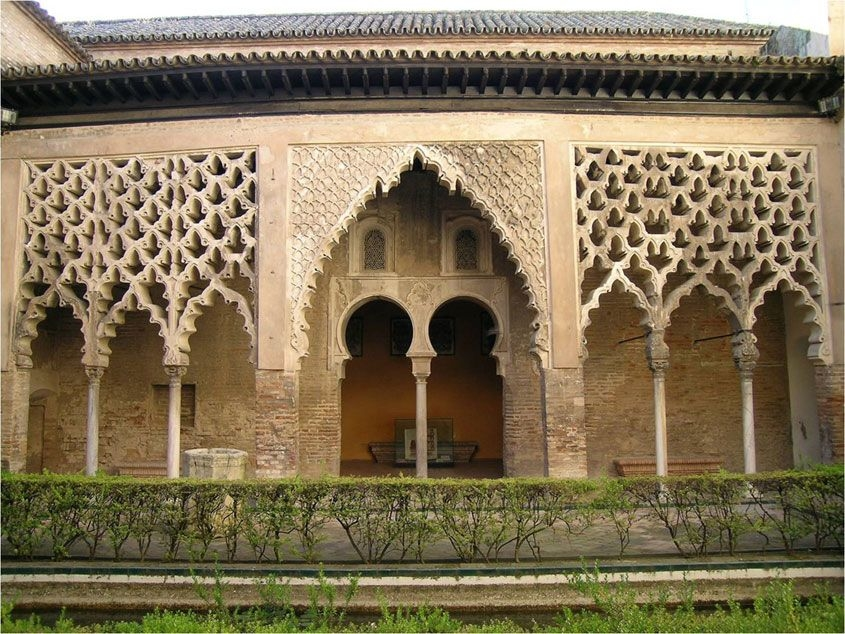arco-herradura: (332, 288, 421, 369), (420, 287, 505, 366)
arco-lobulado: (576, 268, 661, 371), (659, 277, 748, 373), (747, 269, 828, 371), (175, 280, 259, 376), (13, 284, 96, 380), (93, 286, 175, 378)
